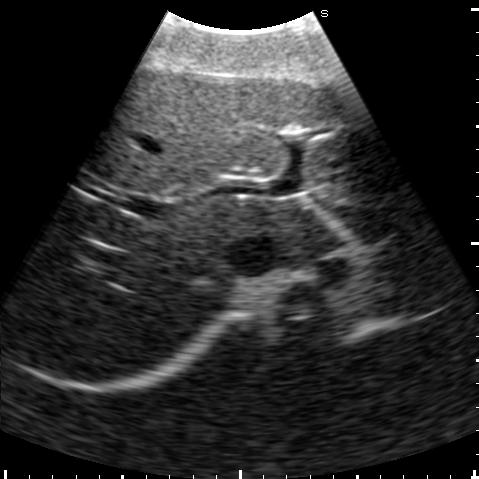IVC: (227, 237, 274, 276)
S1: (257, 205, 332, 256)
S2: (311, 190, 426, 240)
S3: (291, 83, 413, 202)
S4: (95, 72, 310, 197)
